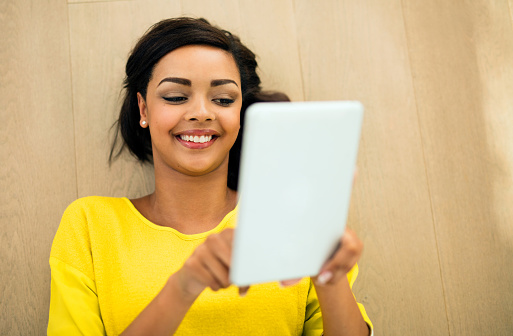deitado: (33, 13, 344, 336)
